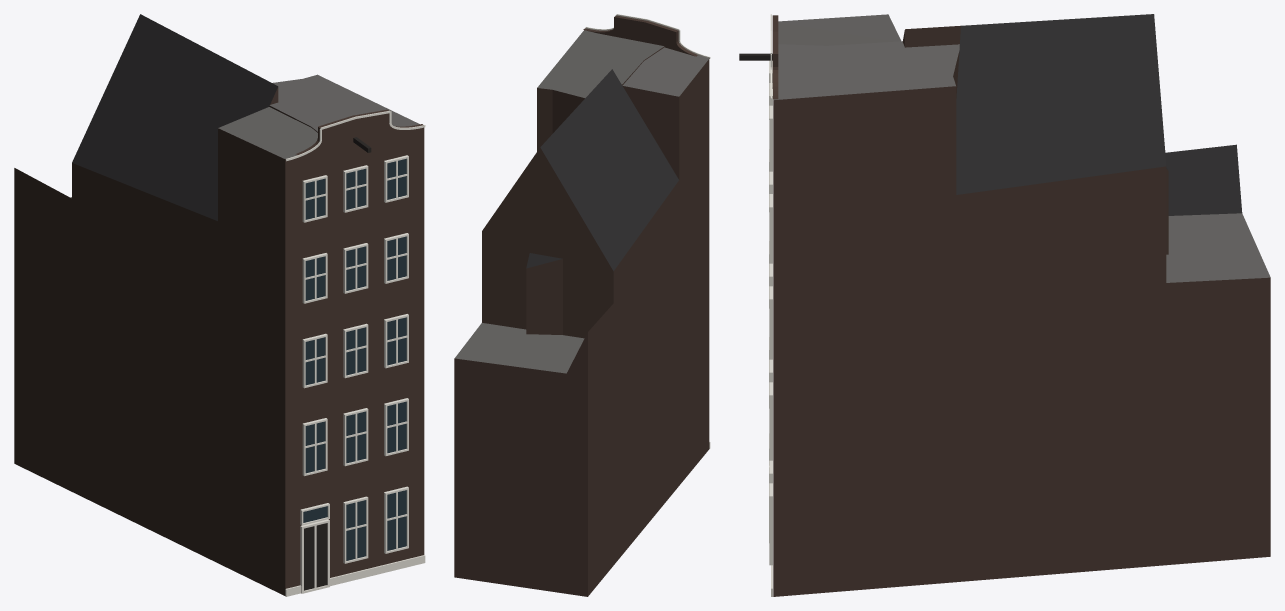
3 views of the same model, side by side, from view 1: azimuth 30°, elevation 25°; view 2: azimuth 150°, elevation 25°; view 3: azimuth 270°, elevation 25° (orthographic). The views are drawn at different scales.
Parts seen in each view (by area): view 1: spec-0363100012178304; view 2: spec-0363100012178304; view 3: spec-0363100012178304.
Boxes of the visible parts, x1=… form: spec-0363100012178304: x1=14, y1=14, x2=425, y2=596; spec-0363100012178304: x1=454, y1=14, x2=710, y2=596; spec-0363100012178304: x1=739, y1=14, x2=1270, y2=596.
Bounding box in the file's own units: 8.74 × 18.72 × 17.1.
